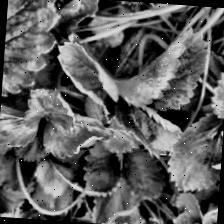Powdery Mildew Leaf: (109, 21, 211, 117), (102, 96, 186, 160), (52, 40, 124, 106), (40, 119, 116, 162), (20, 86, 78, 133)
